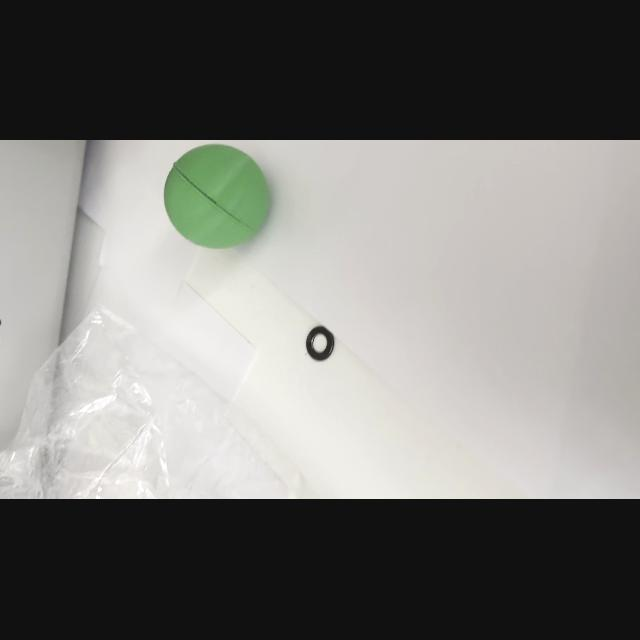objects: (161, 143, 271, 253)
